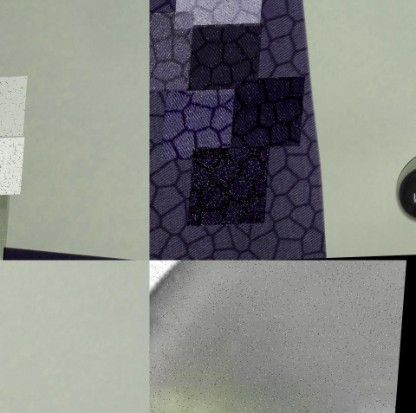ironball: (149, 260, 415, 412), (191, 147, 273, 227), (188, 24, 263, 96), (233, 78, 306, 149), (164, 90, 236, 160), (149, 11, 194, 91), (174, 0, 264, 29), (0, 77, 29, 139), (390, 149, 414, 223), (0, 138, 27, 197)
